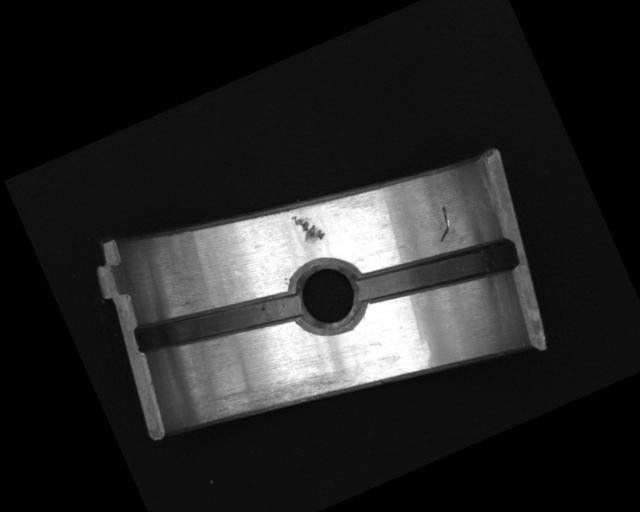bruise: (289, 207, 326, 249)
gap: (131, 265, 304, 380), (353, 217, 521, 328)
hole: (281, 250, 374, 343)
nick: (428, 204, 459, 243)
scratch: (211, 343, 356, 439)
